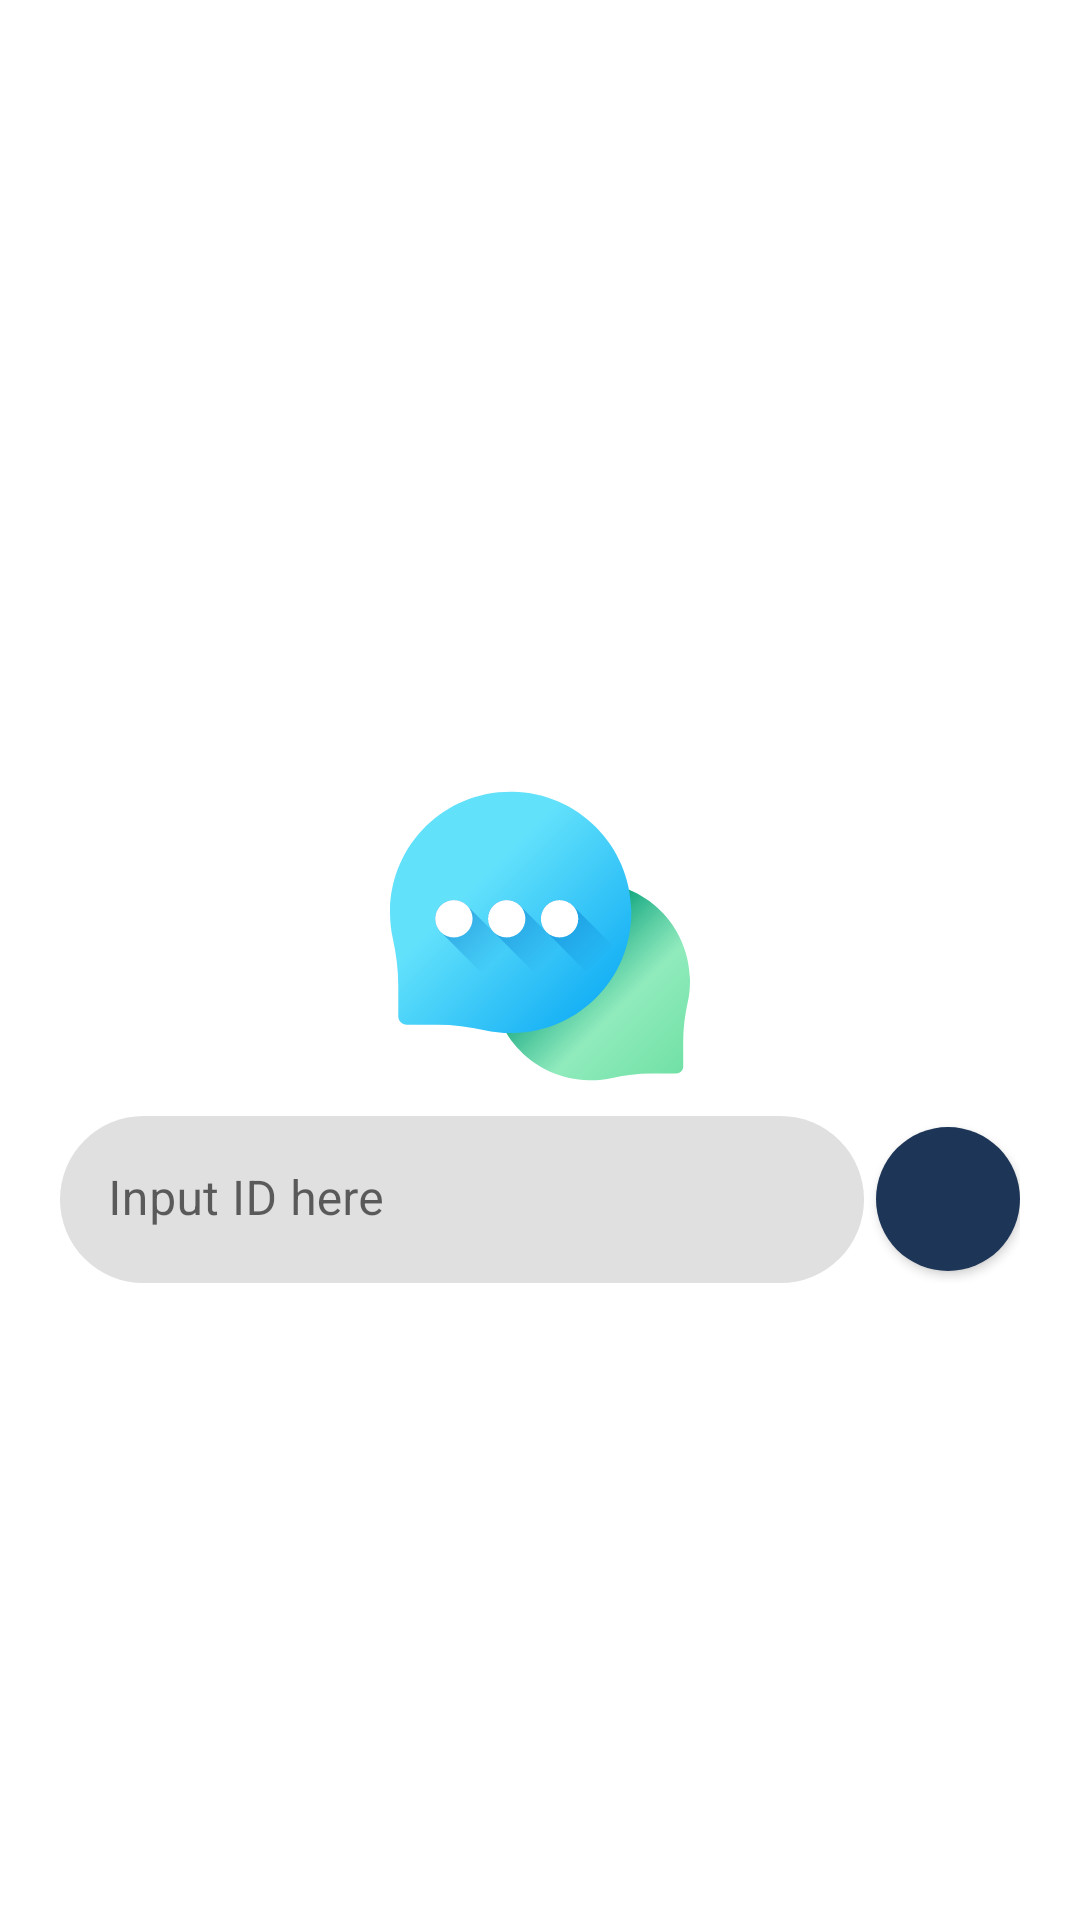

Icon bounding boxes for this 1080 × 1920 phone screenshot, format (x1, y1, x2, y2):
chat: (390, 791, 690, 1081)
